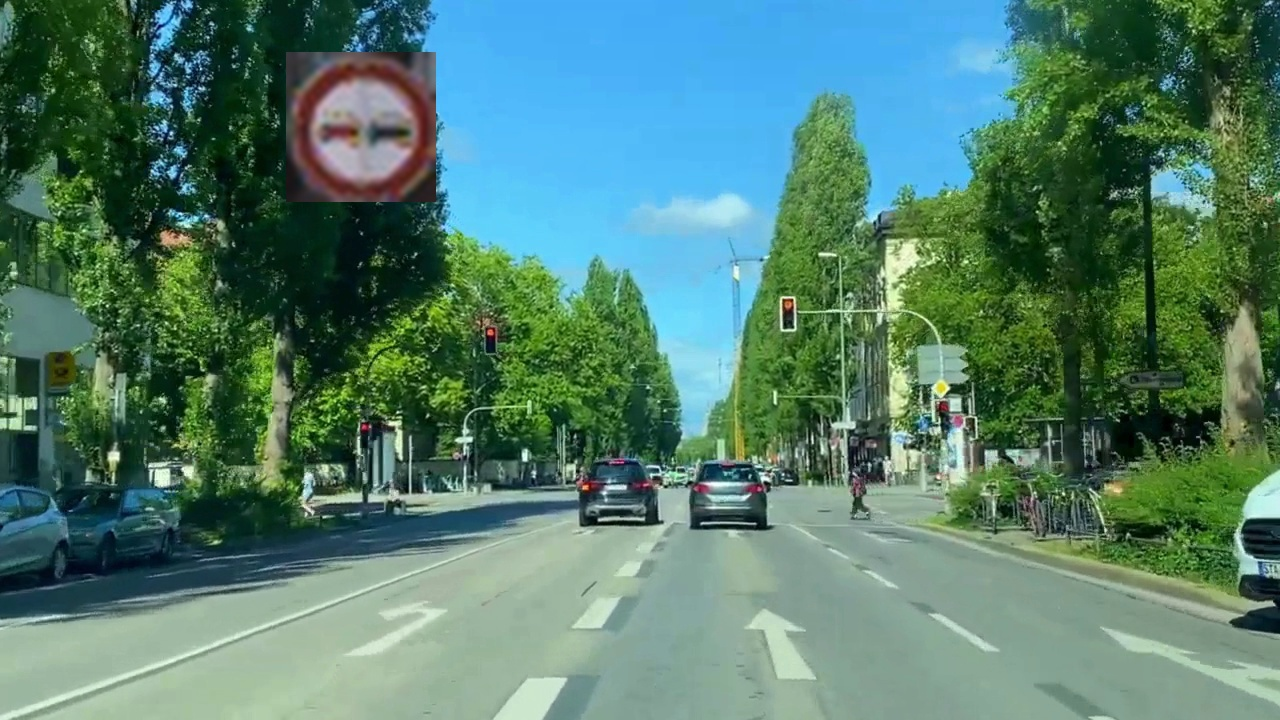No passing: (286, 52, 436, 202)
